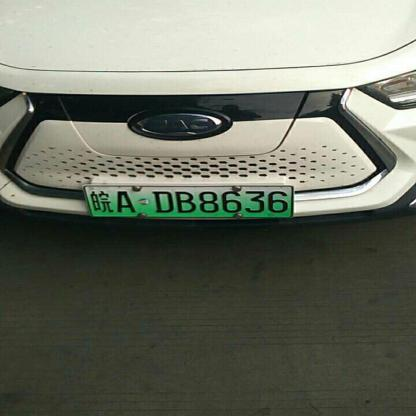lp: (82, 186, 294, 217)
